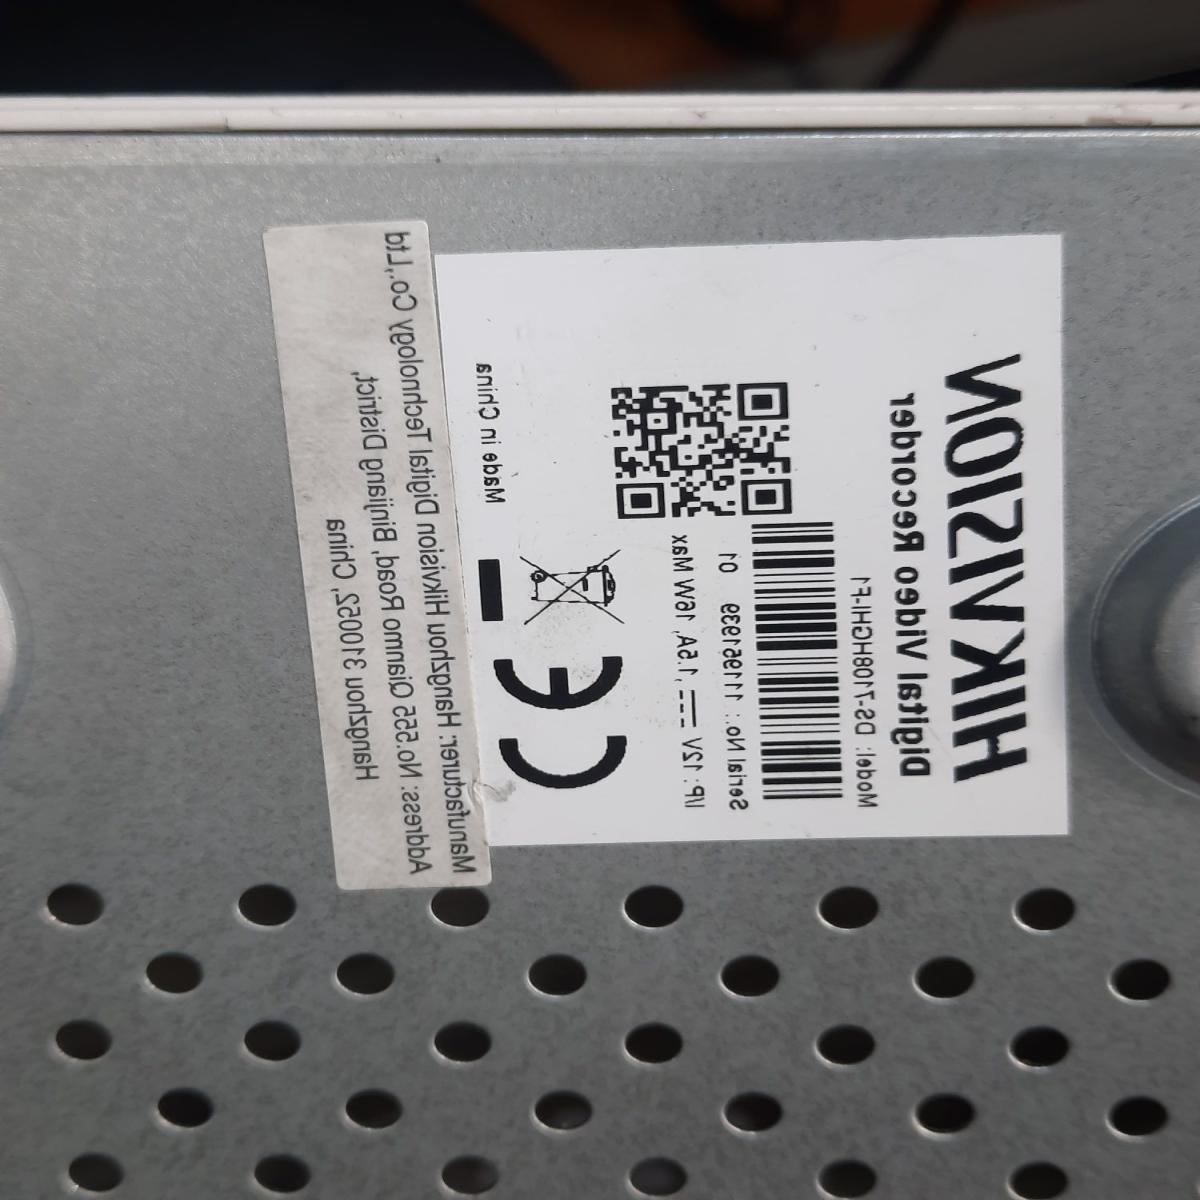Barcode: (742, 516, 848, 805)
Label: (437, 234, 1056, 840)
